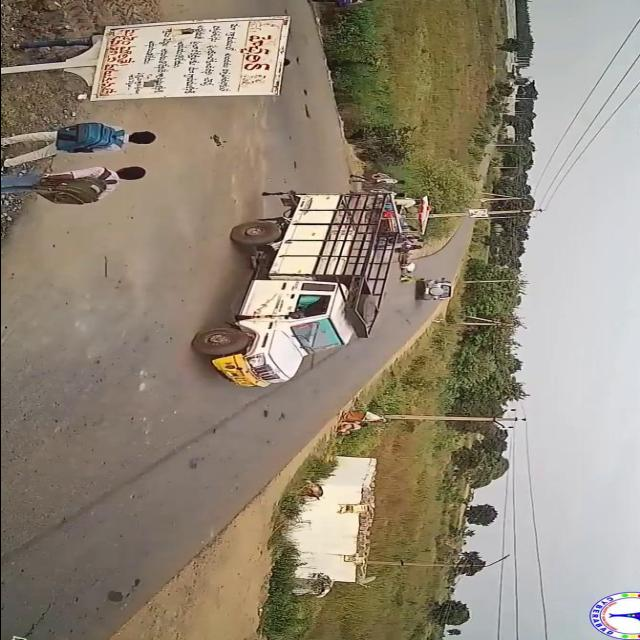accident: (391, 249, 455, 307)
